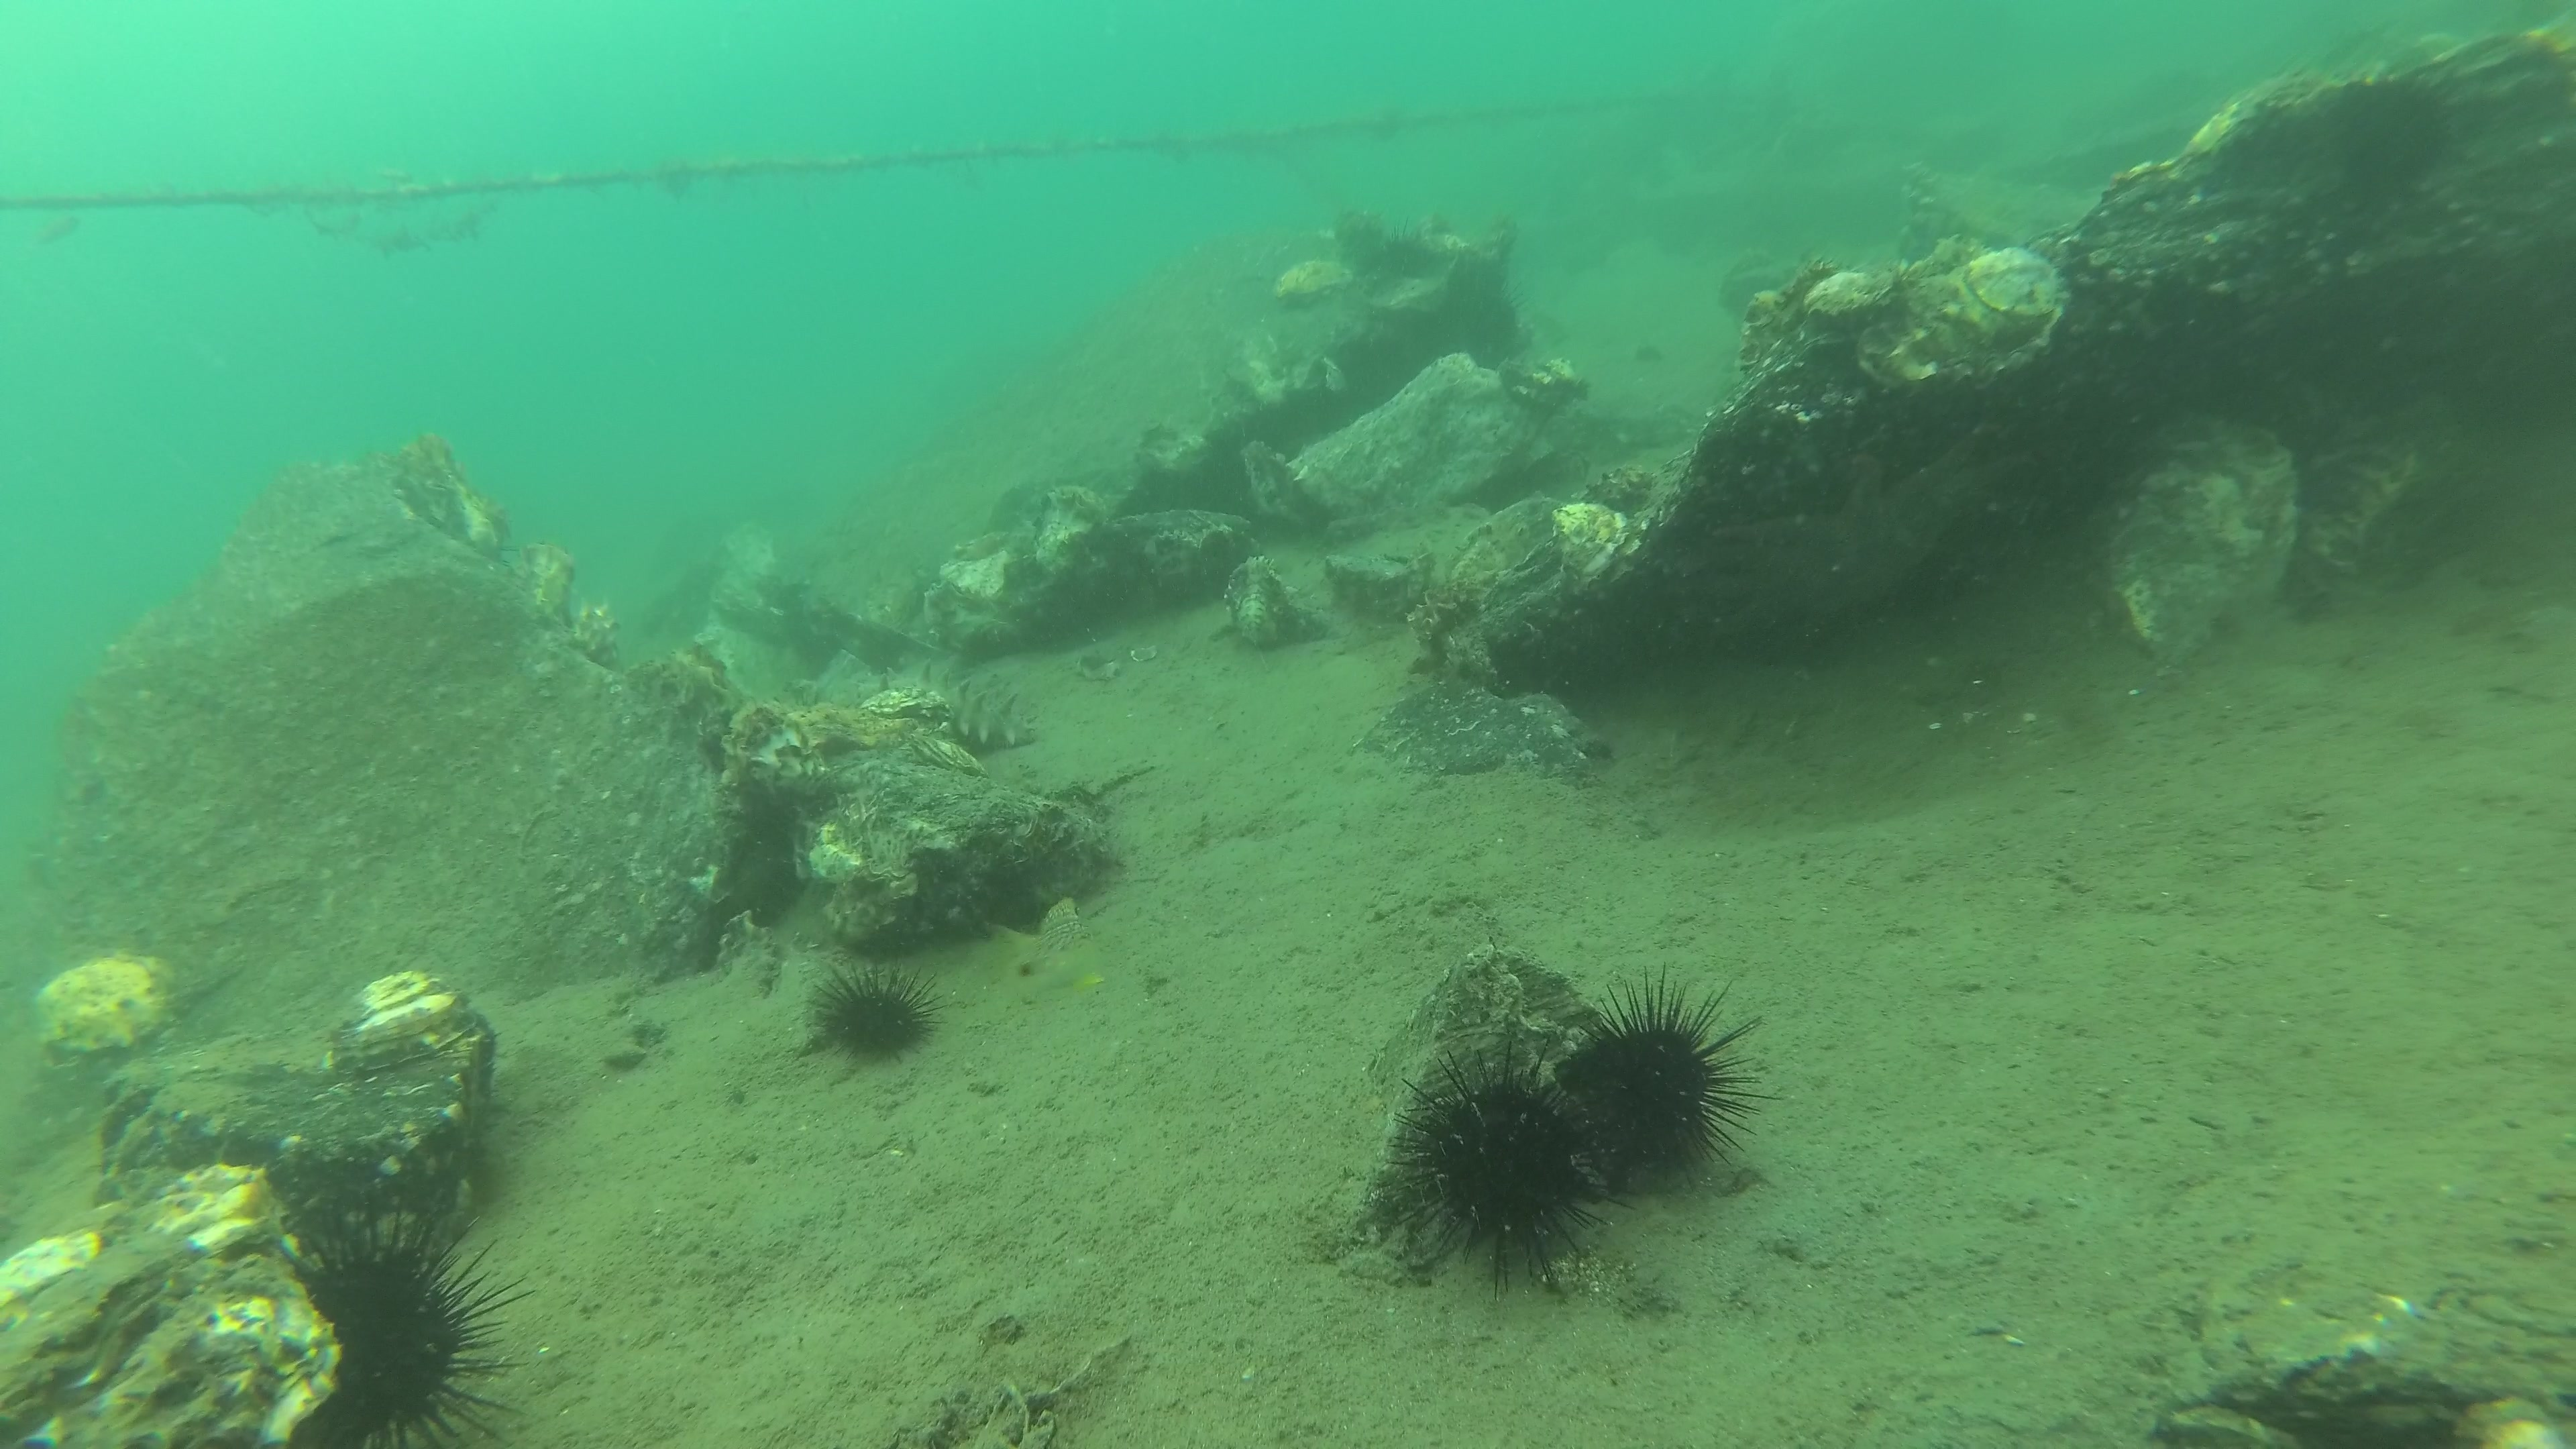echinus: (1382, 1033, 1644, 1300), (269, 1187, 527, 1449), (1562, 957, 1787, 1192), (2328, 64, 2465, 202), (801, 955, 952, 1069), (1355, 216, 1438, 278), (1470, 281, 1529, 354)
holothurian: (855, 656, 1040, 748)
starfish: (1697, 428, 2033, 644)
